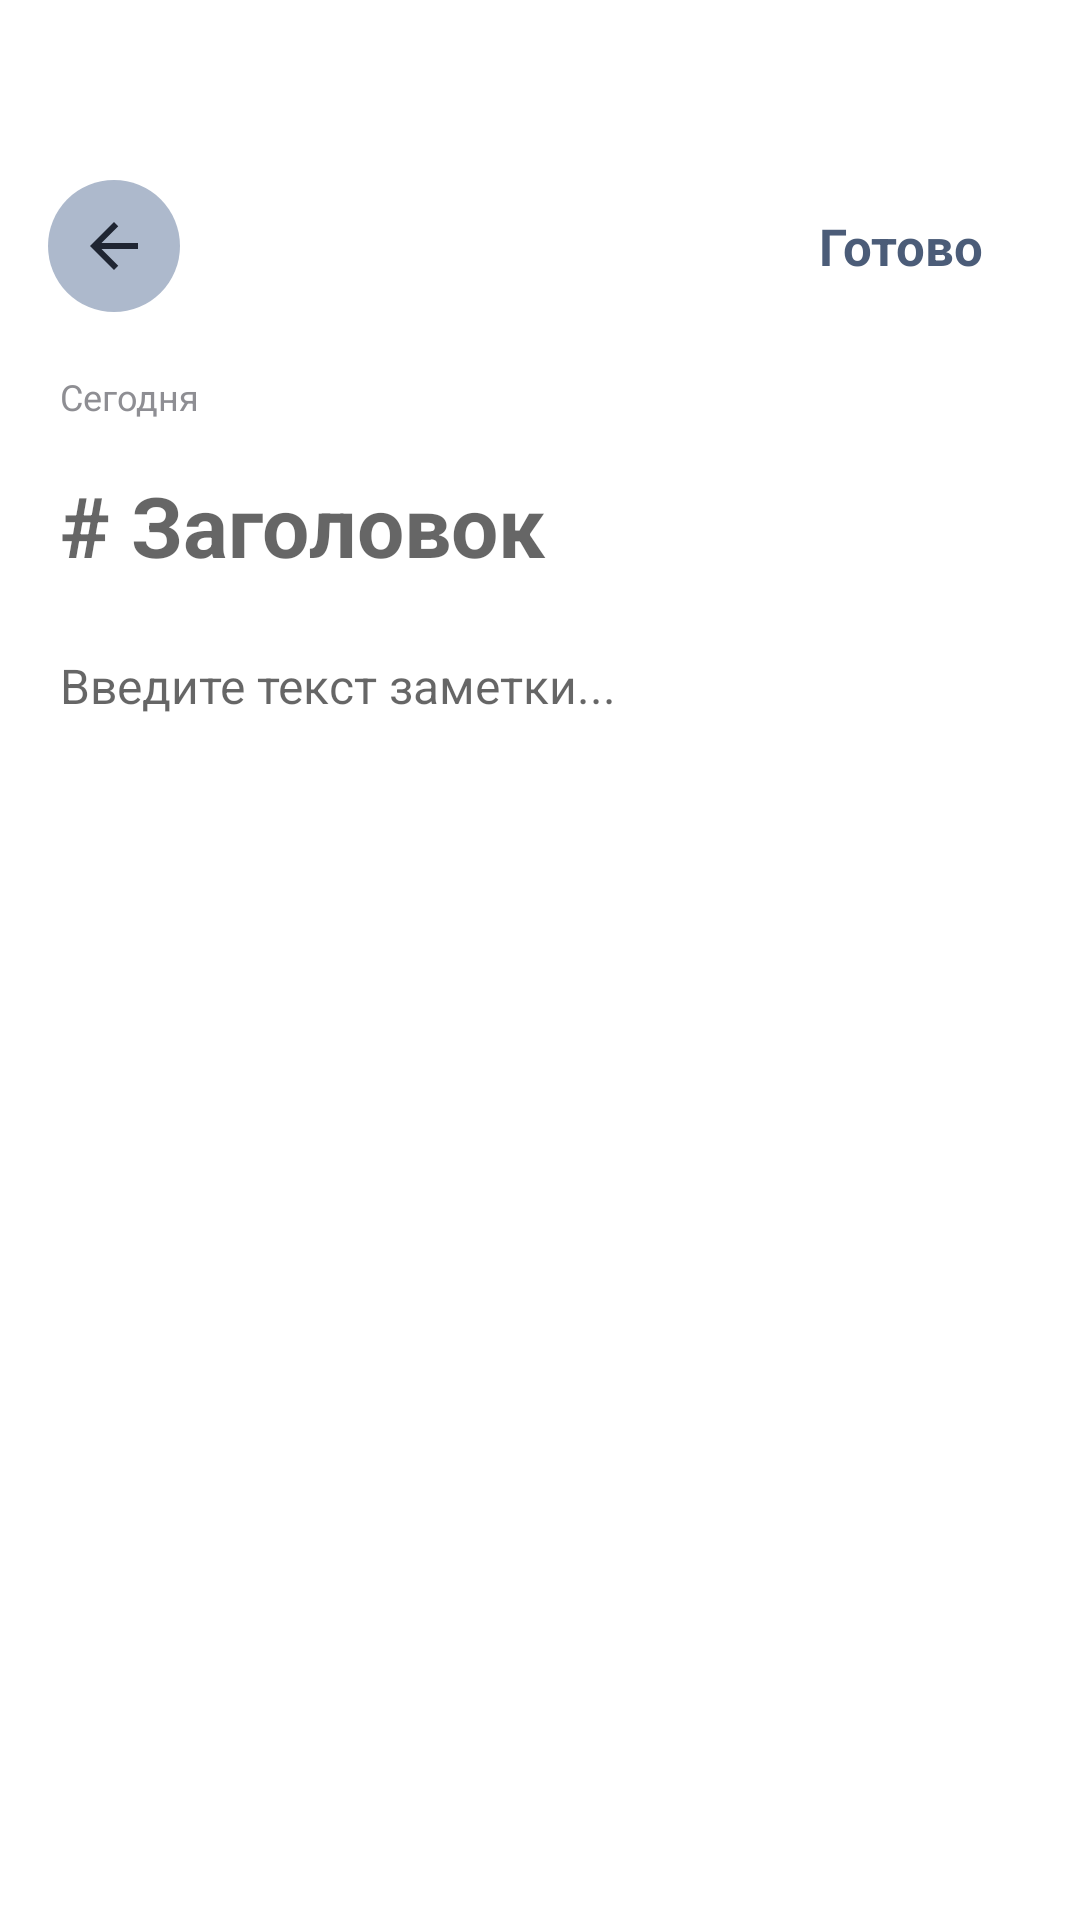

Screen size 1080 × 1920. Icon name, then its box in pixels as (x1, y1, x2, y2):
Назад: (48, 180, 180, 312)
